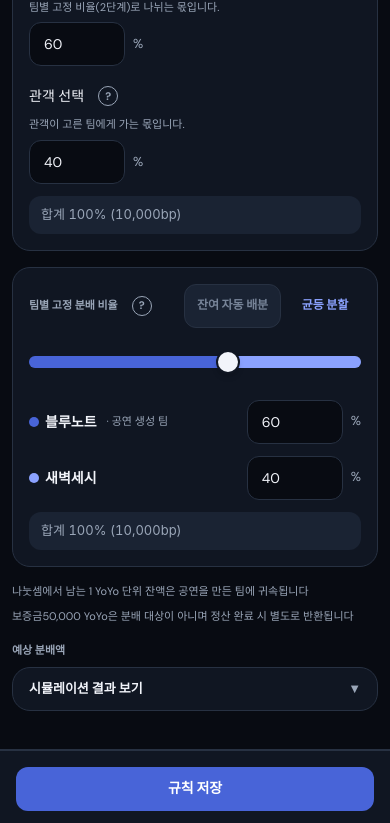
Test case: SettlementRules mobile simulation › connects the toggle to the simulation disclosure
(page scrolled)
Click the button "시뮬레이션 결과 보기 ▼" at (86, 689), box [12, 667, 378, 711]
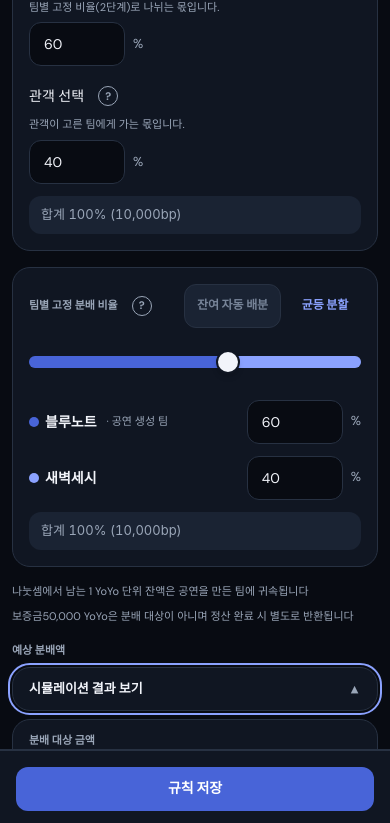
Check: the button "시뮬레이션 결과 보기 ▼" is expanded
Click the button "시뮬레이션 결과 보기 ▼" at (86, 689), box [12, 667, 378, 711]
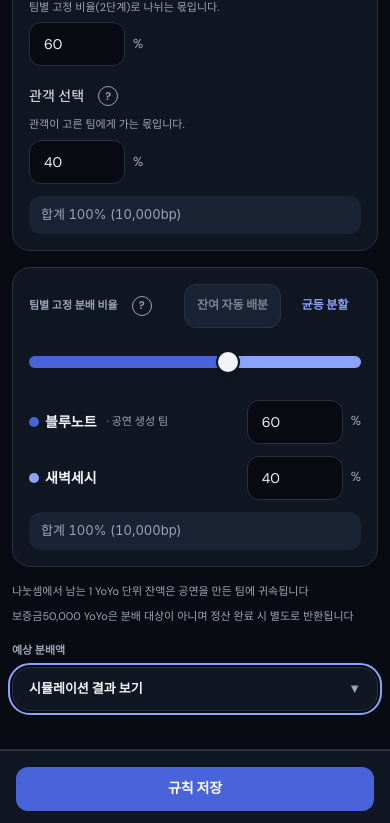
Check: the button "시뮬레이션 결과 보기 ▼" is collapsed, box [12, 667, 378, 711]
